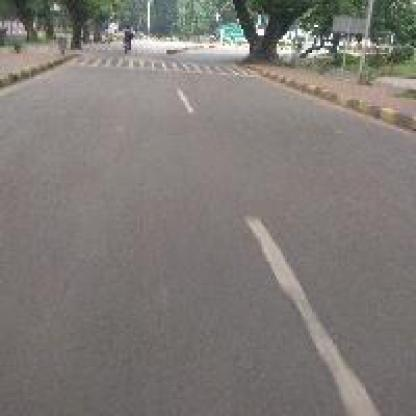Speed Bump: (68, 54, 250, 77)
